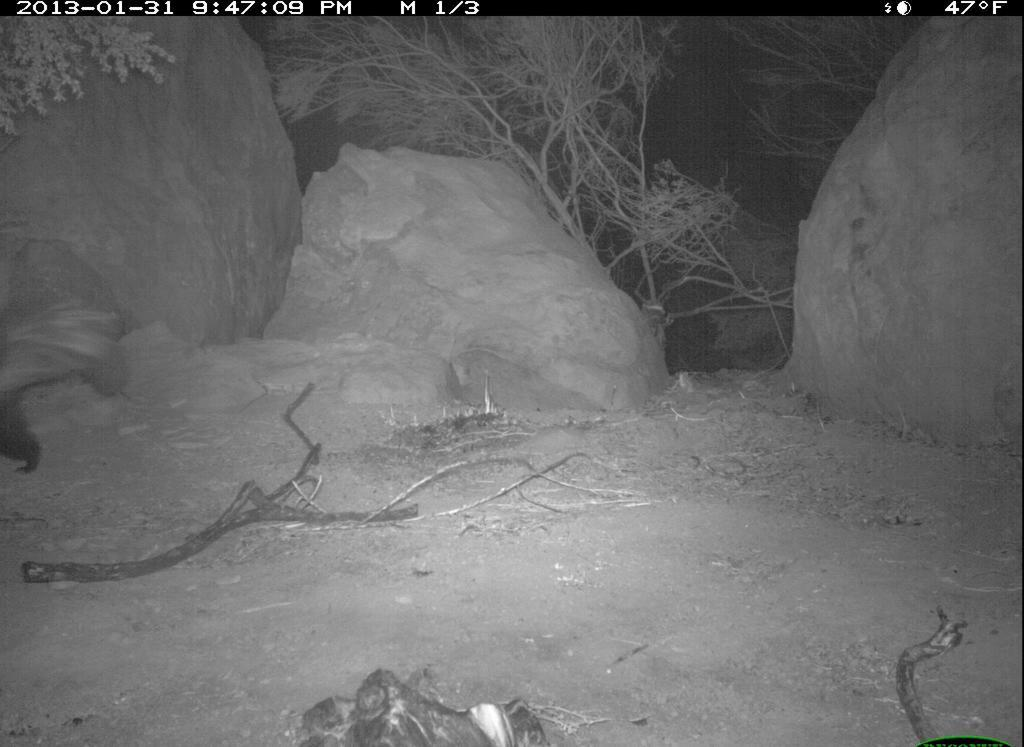skunk: (2, 291, 136, 473)
